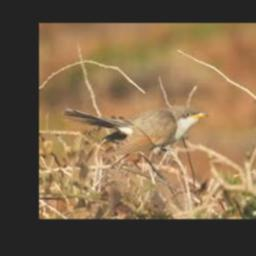Cuckoo: (65, 107, 210, 154)
